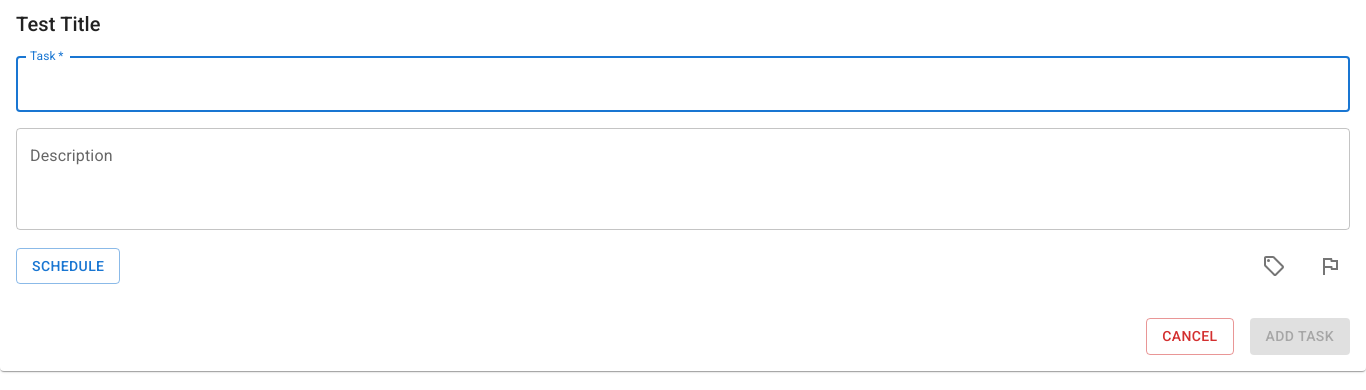
Test: TaskForm › only disables the submit button when the name input is empty
expect the button "Add Task" is disabled: met, box [1250, 318, 1350, 354]
Type "Test Name" into the field labelled "Task *" at (683, 84), box [16, 56, 1350, 112]
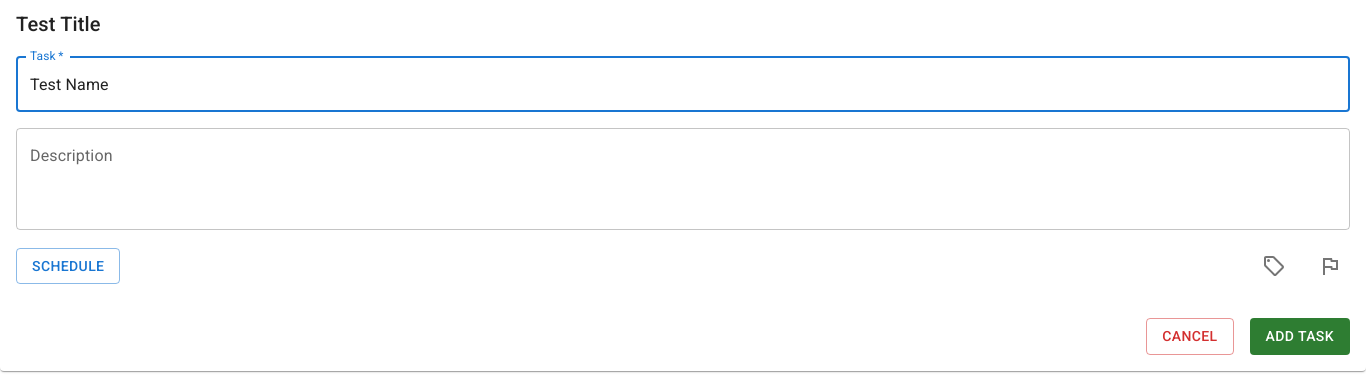
expect the button "Add Task" is enabled: met, box [1250, 318, 1350, 354]
